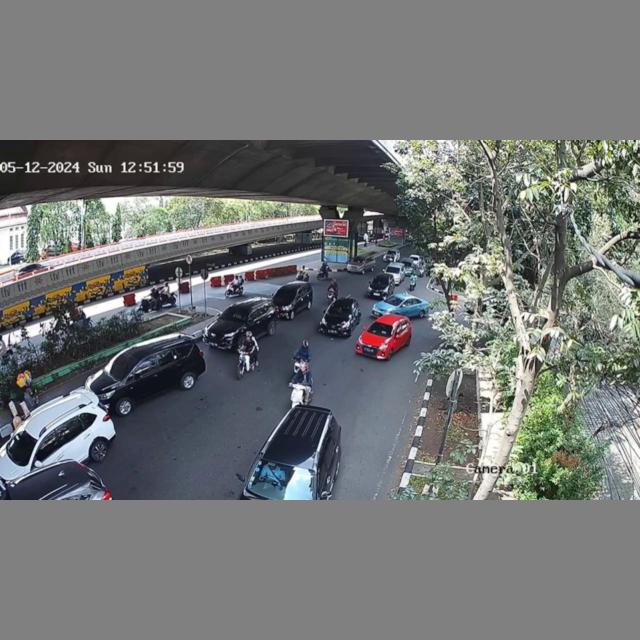windshield: (251, 457, 316, 500), (218, 304, 249, 323), (366, 320, 395, 340)
